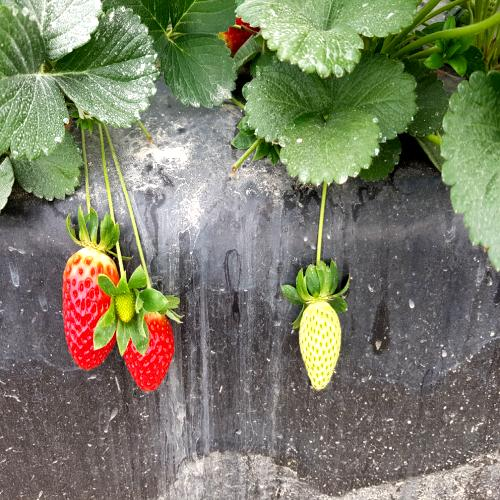ripe: (110, 285, 184, 403), (60, 228, 118, 375)
